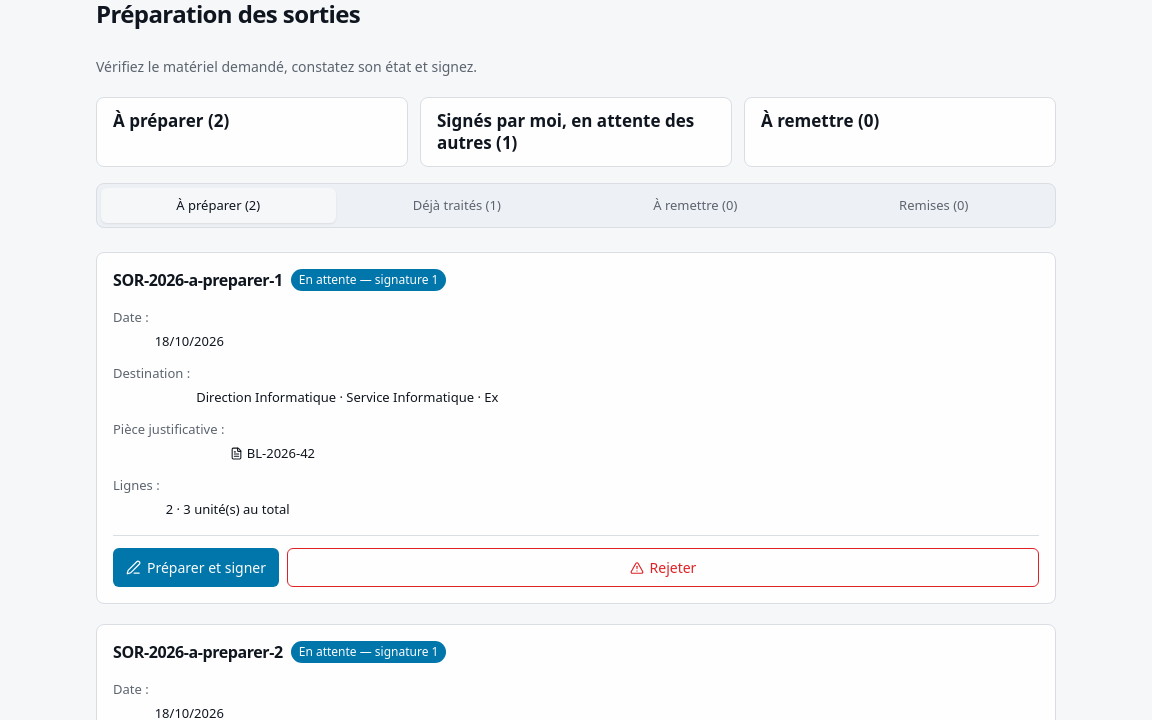
Espace magasinier — panneau de vérification et signature 1 › E3 : « Signer (1/3) » reste désactivé sans état ou sans case cochée
Ouvre le panneau de vérification du premier ordre.
Click the button "Préparer et signer".
click(196, 568)  # box [113,548,279,588]
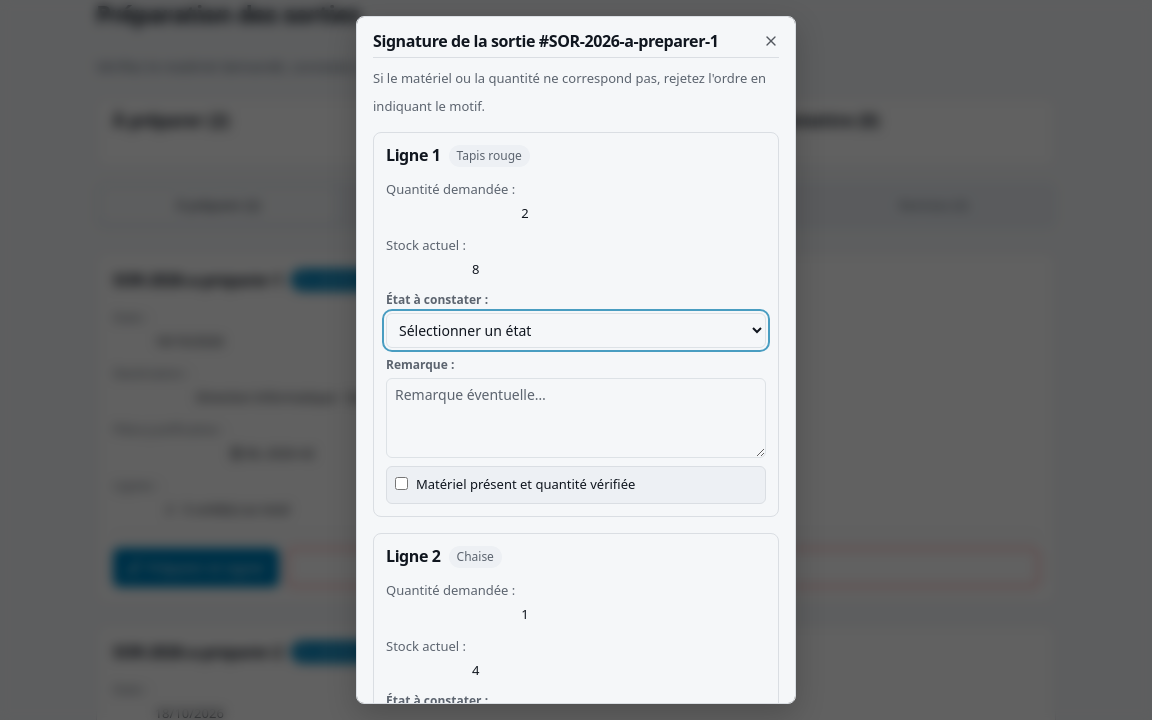
Check: the text "Si le matériel ou la quantité ne correspond pas" is shown, box [373,69,766,115]
Check: the text "Quantité demandée :" shows "2", box [521,204,529,222]
Check: the text "Stock actuel :" shows "8", box [472,260,480,278]
Cocher sans état : toujours désactivé.
Click the checkbox.
click(402, 484)  # box [395,477,408,490]
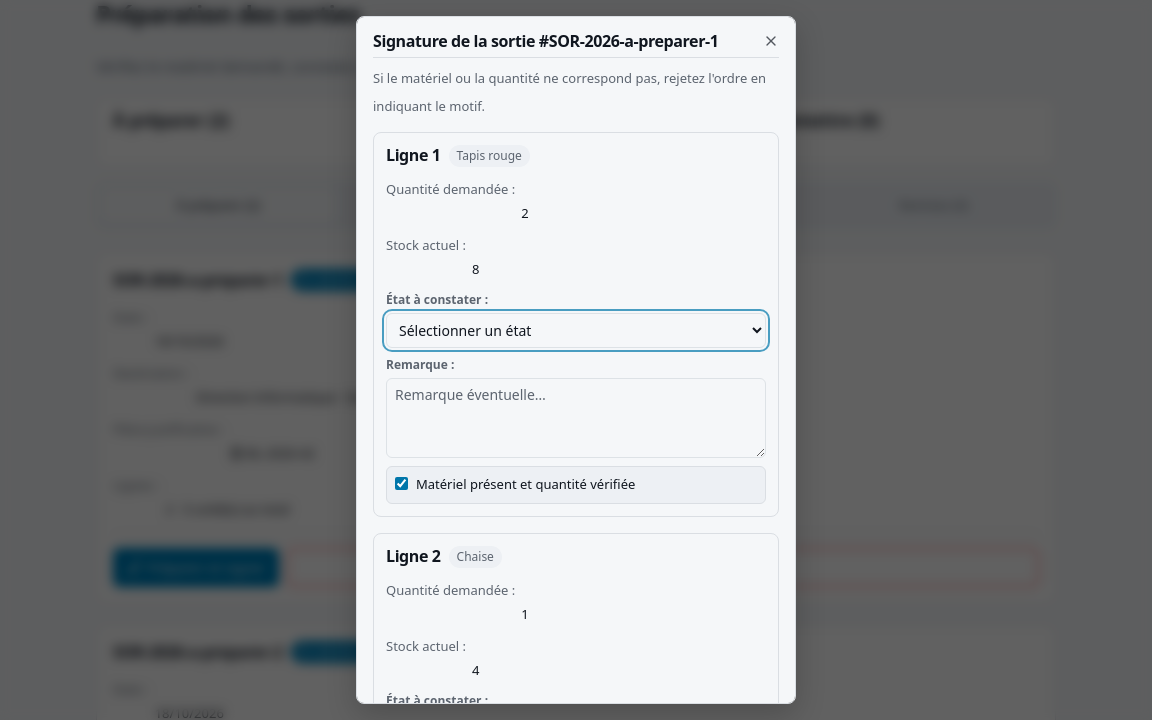
État sur UNE seule ligne : toujours désactivé (2 lignes).
Select "Bon" in the dropdown labelled "État à constater :" at (576, 330), box [386,313,766,348]
(page scrolled)
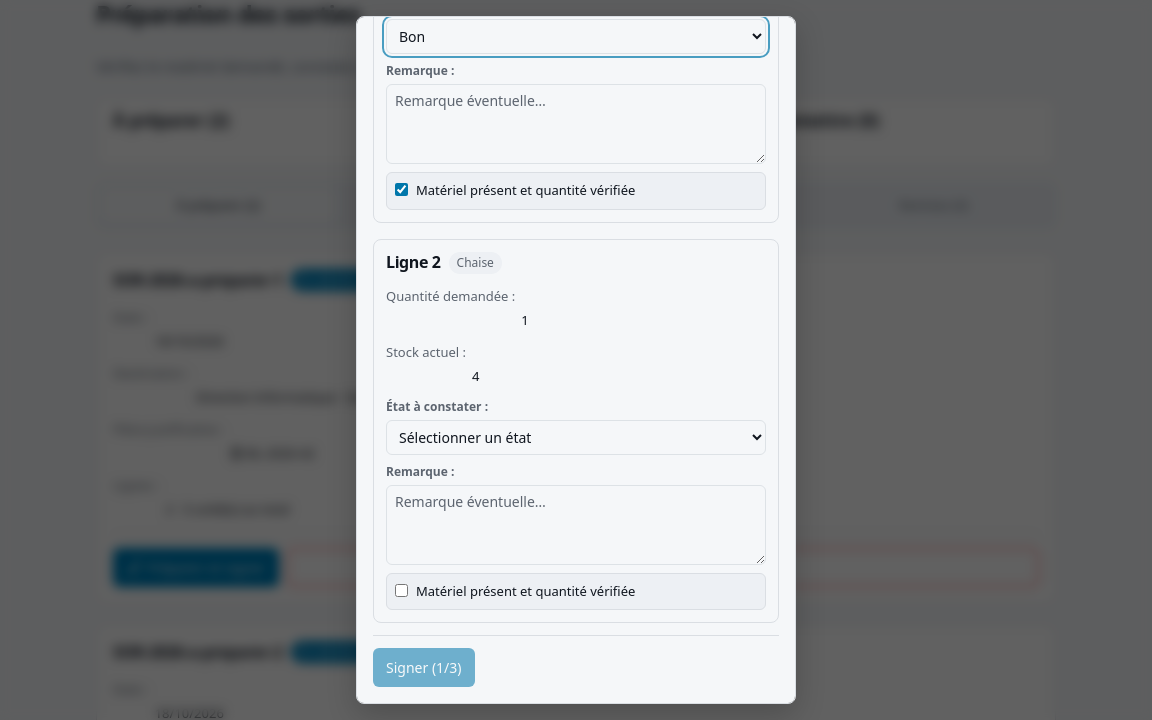
Check: the button "Signer (1/3)" is disabled, box [373,648,474,687]
Deuxième ligne : état + case → enfin activé.
Select "Neuf" in the dropdown labelled "État à constater :" below "Stock actuel :" at (576, 437), box [386,420,766,454]
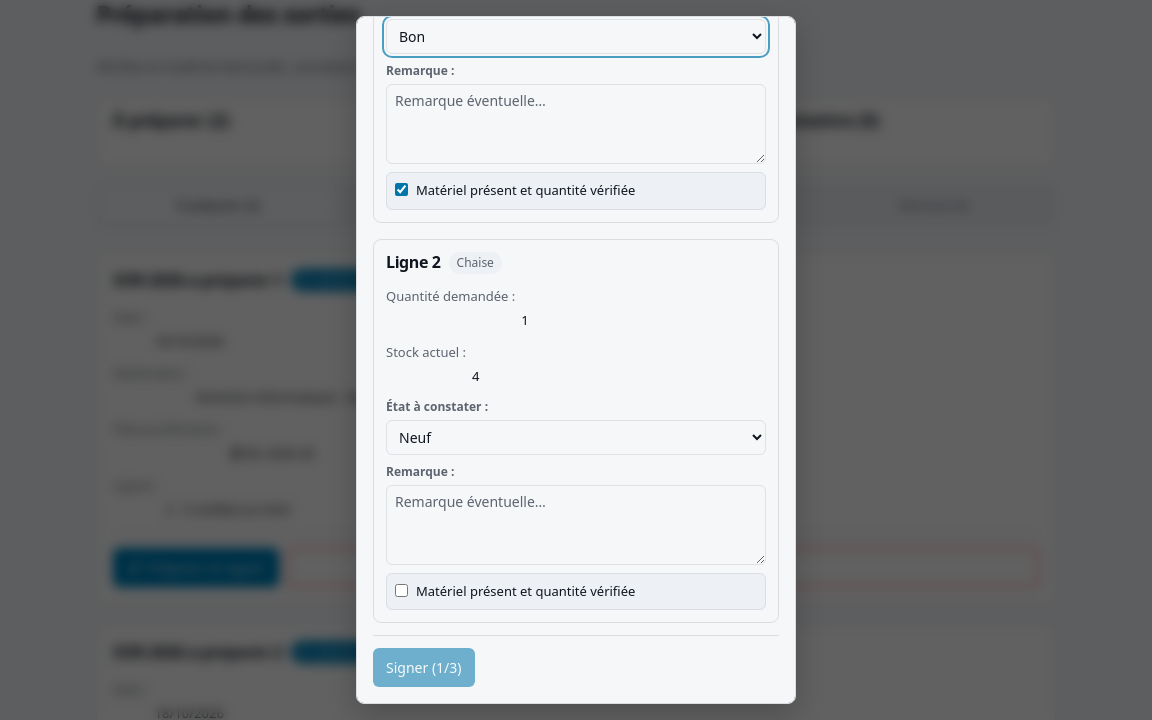
Click the checkbox labelled "Matériel présent et quantité vérifiée" below "État à constater :".
click(402, 590)  # box [395,584,408,596]
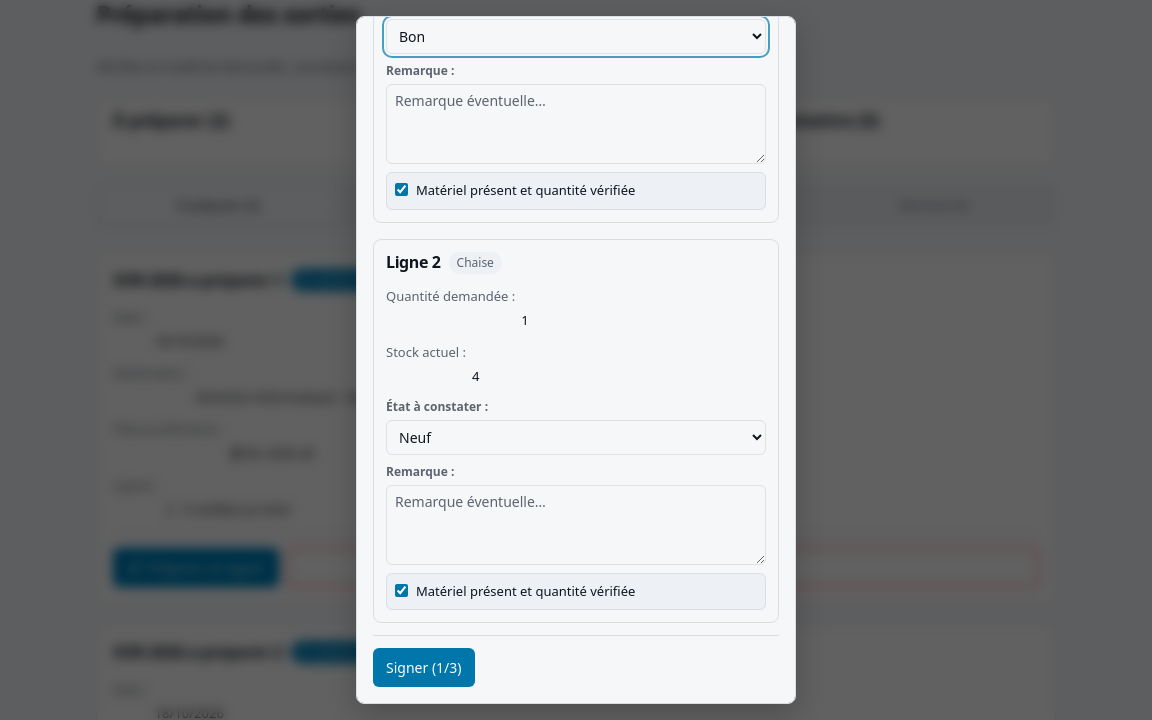
Check: the button "Signer (1/3)" is enabled, box [373,648,474,687]
